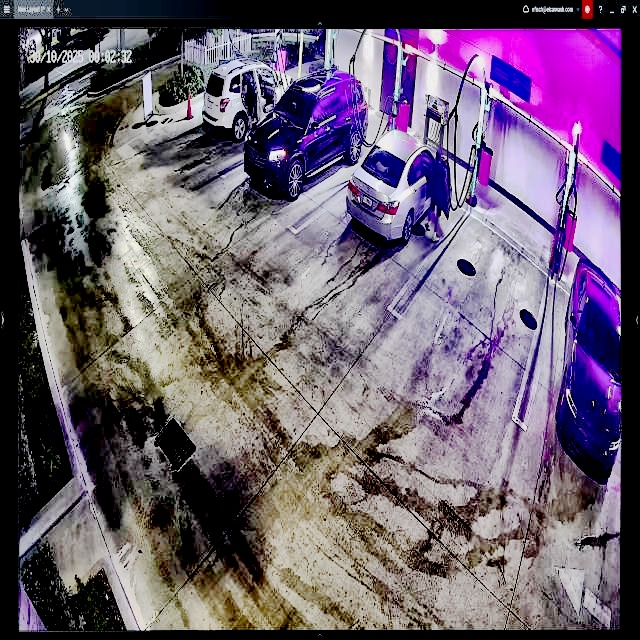Car: (243, 68, 368, 199), (347, 128, 452, 243), (202, 59, 295, 143)
